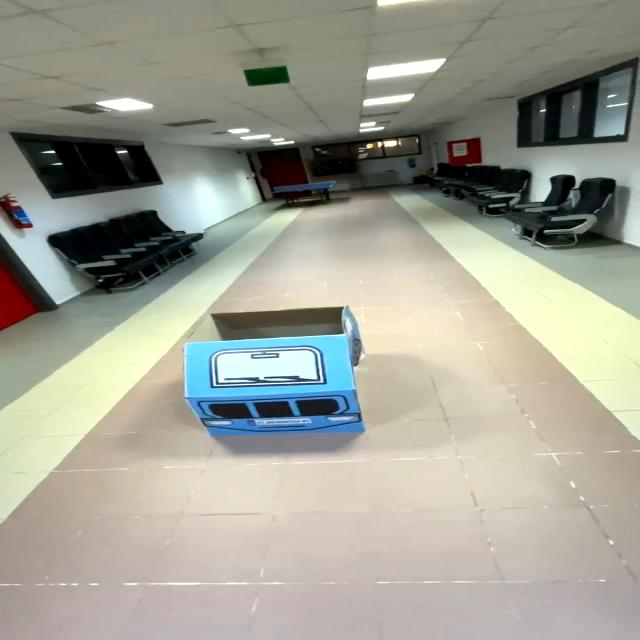blue_car: (171, 294, 400, 457)
